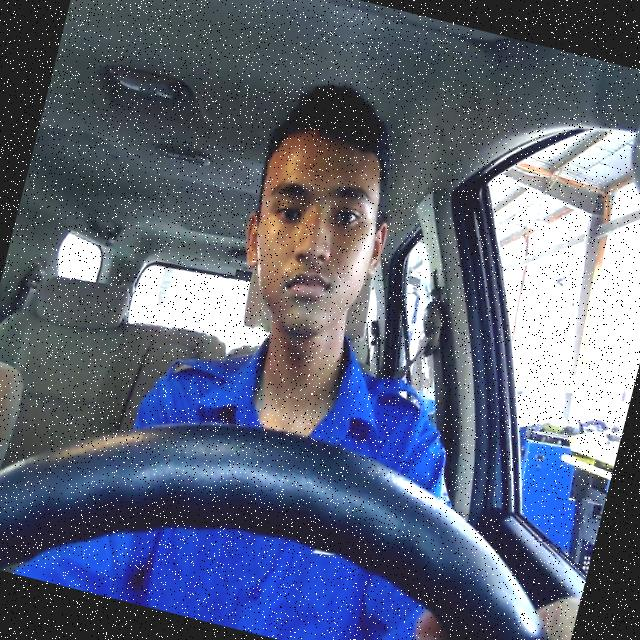focused: (221, 125, 405, 352)
